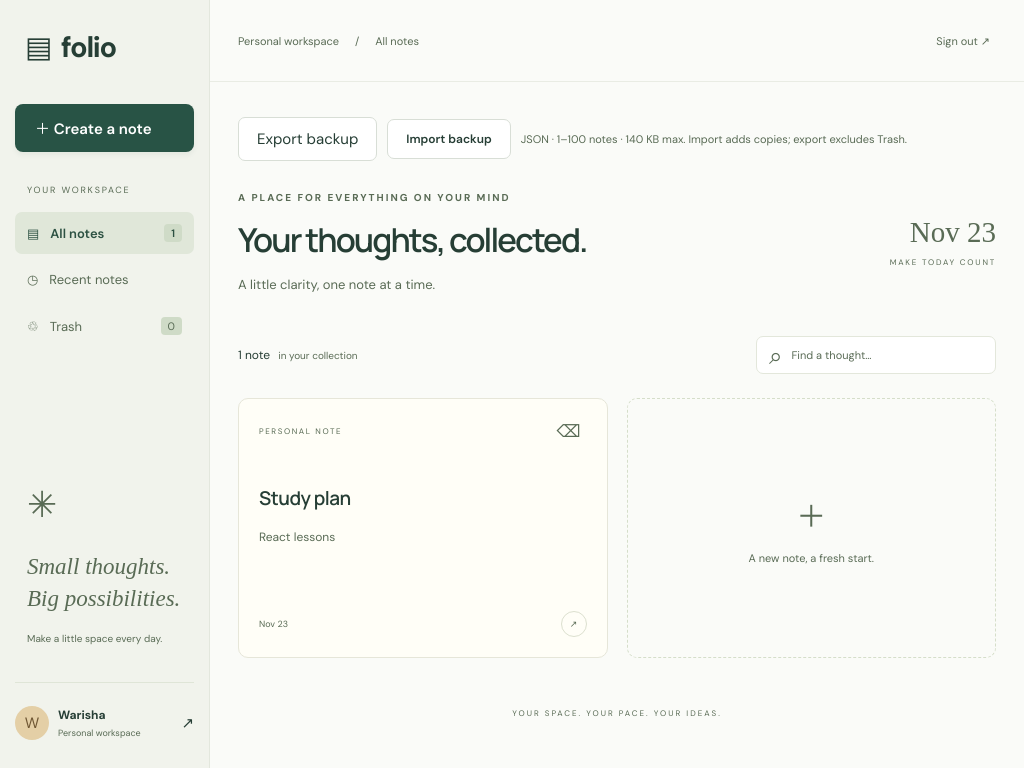
delete dialog traps keyboard focus, Escape cancels and restores the opener
Click the button named "Delete Study plan" at (568, 431), box left=550, top=419, right=586, bottom=443
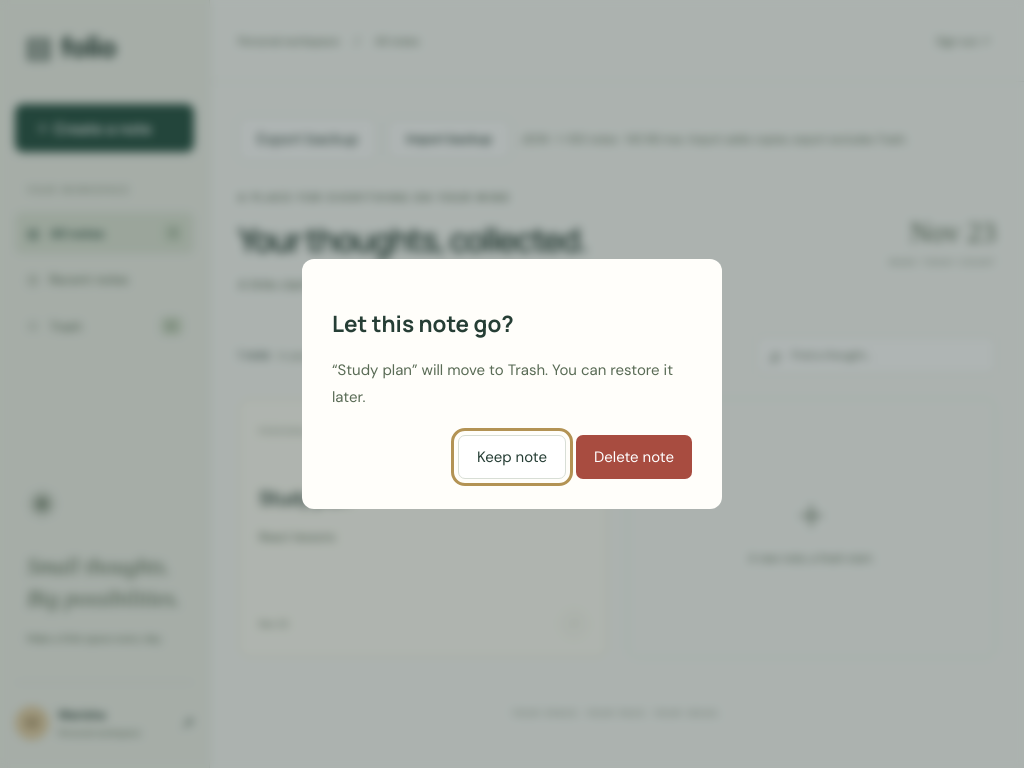
Press Shift+Tab
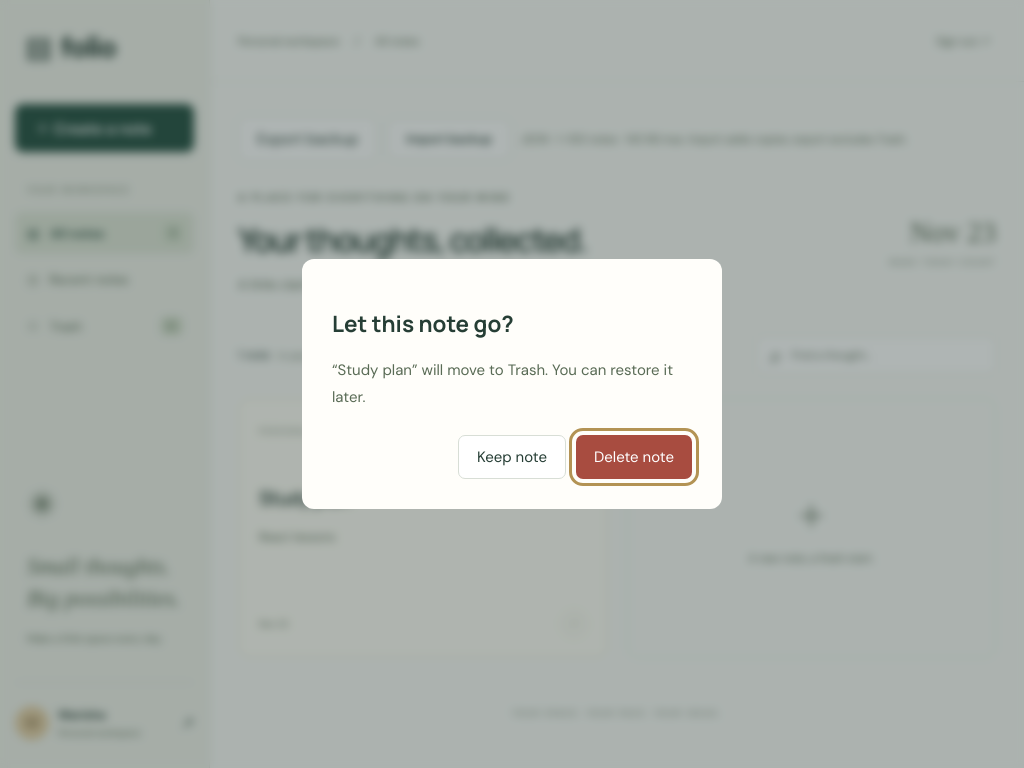
Press Escape
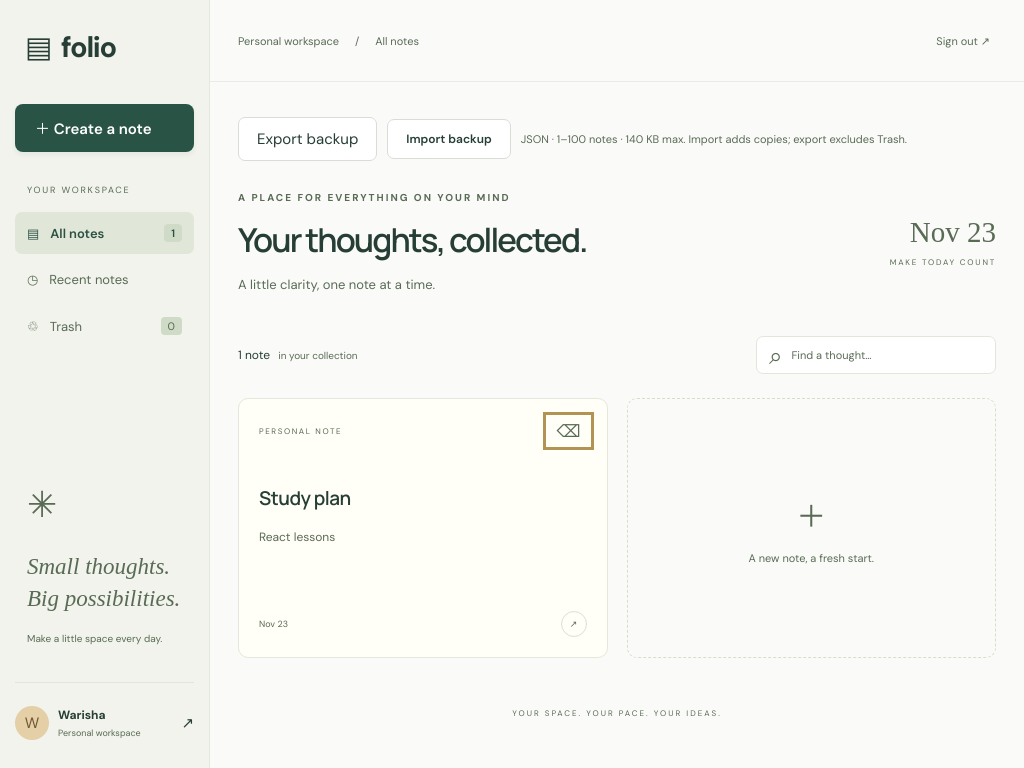
Now the dialog is gone
